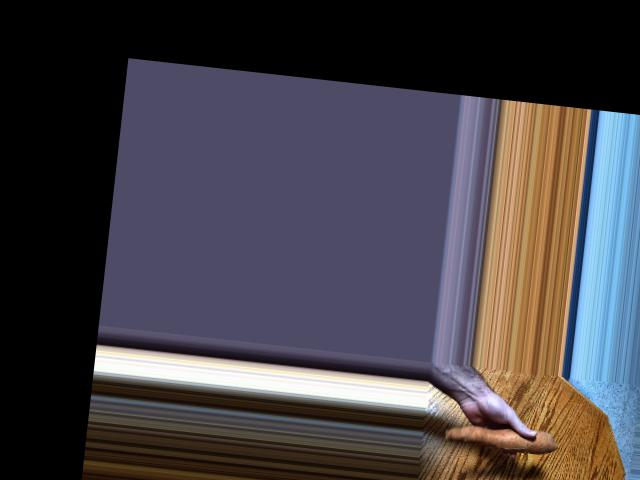sweet_potato: (443, 415, 553, 459)
